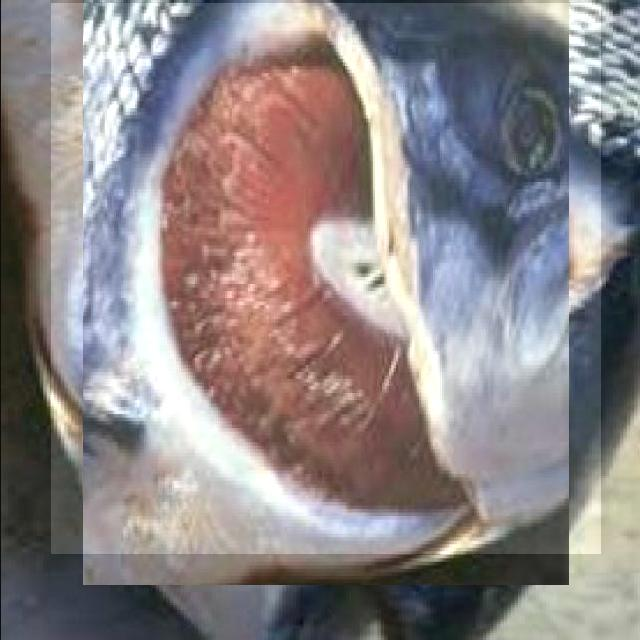Gill Disease: (50, 3, 600, 554)
